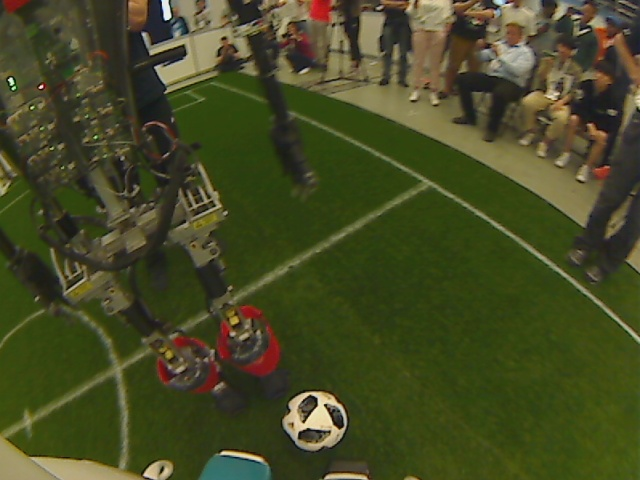ball: (282, 387, 347, 456)
